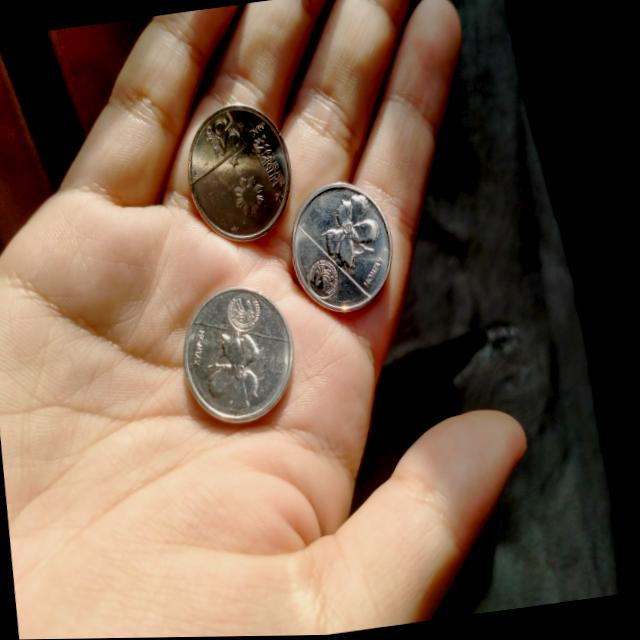25Cent_New_Back: (317, 186, 394, 280)
25Cent_New_Front: (193, 110, 246, 161)
